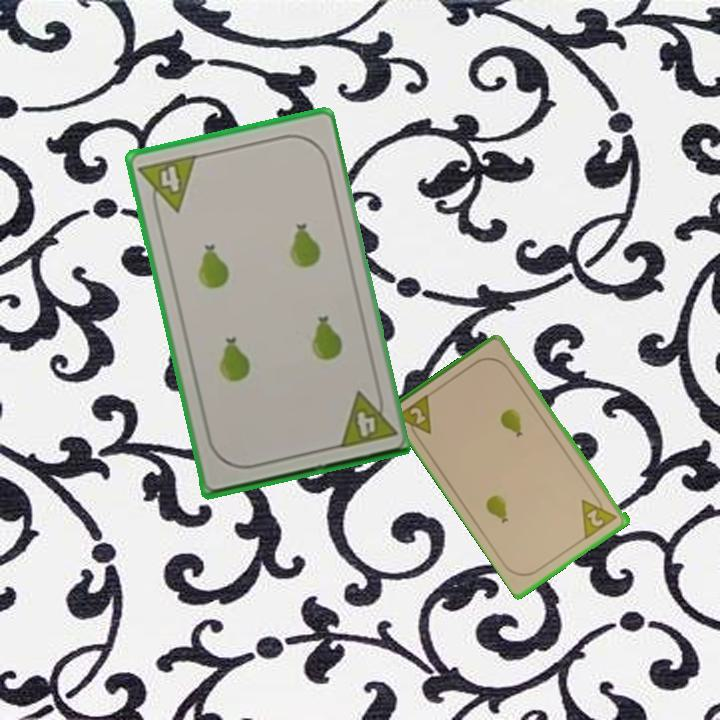2p: (578, 490, 622, 541), (406, 403, 429, 428)
4p: (333, 384, 398, 451), (135, 151, 199, 219)
